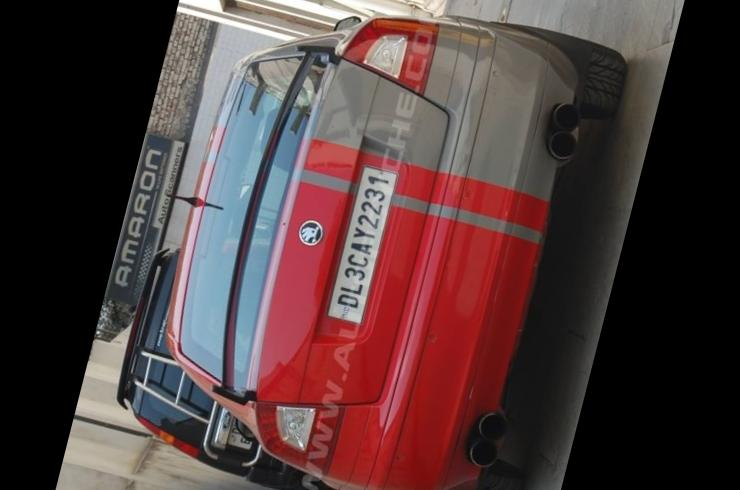plate: (319, 156, 408, 323)
